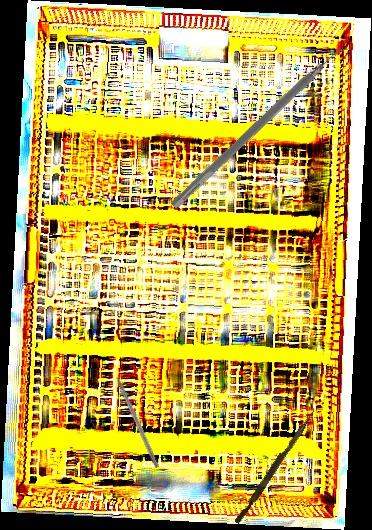Hook Surgical: (109, 363, 161, 469)
Pusher: (234, 407, 316, 526)
Spatula Surgical: (169, 37, 356, 218)
